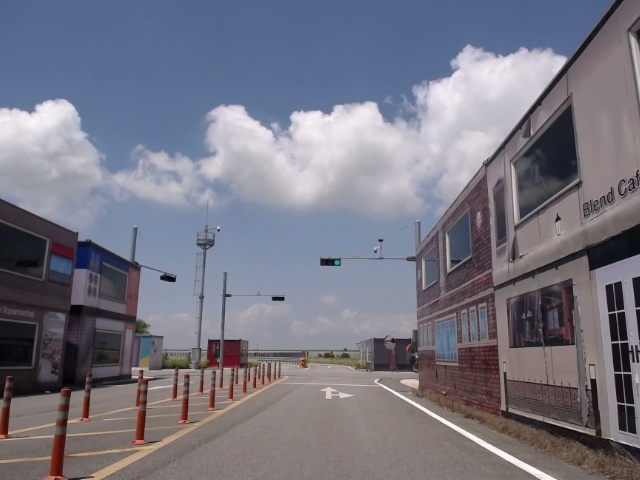green_3: (320, 259, 341, 266)
